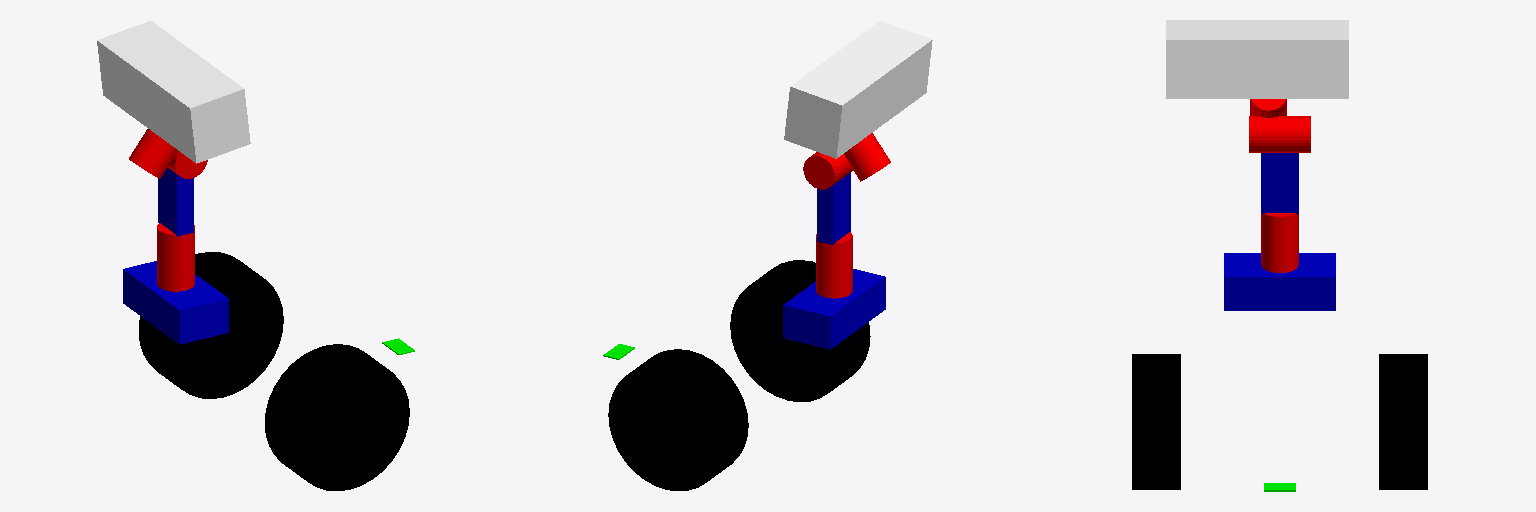
URDF robot description (realsense_explorer):
<?xml version="1.0" encoding="utf-8"?>
<!-- =================================================================================== -->
<!-- |    This document was autogenerated by xacro from realsense_explorer.urdf.xacro  | -->
<!-- |    EDITING THIS FILE BY HAND IS NOT RECOMMENDED                                 | -->
<!-- =================================================================================== -->
<robot name="realsense_explorer">
  <material name="aluminum">
    <color rgba="0.5 0.5 0.5 1"/>
  </material>
  <material name="plastic">
    <color rgba="0.1 0.1 0.1 1"/>
  </material>
  <link name="base_link"/>
  <!-- camera body, with origin at bottom screw mount -->
  <joint name="camera_joint" type="fixed">
    <origin rpy="0 0 0" xyz="0 0 0"/>
    <parent link="base_link"/>
    <child link="camera_bottom_screw_frame"/>
  </joint>
  <link name="camera_bottom_screw_frame"/>
  <joint name="camera_link_joint" type="fixed">
    <origin rpy="0 0 0" xyz="0.0106 0.0175 0.0125"/>
    <parent link="camera_bottom_screw_frame"/>
    <child link="camera_link"/>
  </joint>
  <link name="camera_link">
    <visual>
      <!-- the mesh origin is at front plate in between the two infrared camera axes -->
      <origin rpy="1.57079632679 0 1.57079632679" xyz="0.0043 -0.0175 0"/>
      <geometry>
        <mesh filename="package://realsense2_description/meshes/d435.dae"/>
      </geometry>
    </visual>
    <collision>
      <origin rpy="0 0 0" xyz="0 -0.0175 0"/>
      <geometry>
        <box size="0.02505 0.09 0.025"/>
      </geometry>
    </collision>
    <inertial>
      <!-- The following are not reliable values, and should not be used for modeling -->
      <mass value="0.072"/>
      <origin xyz="0 0 0"/>
      <inertia ixx="0.003881243" ixy="0.0" ixz="0.0" iyy="0.000498940" iyz="0.0" izz="0.003879257"/>
    </inertial>
  </link>
  <!-- camera depth joints and links -->
  <joint name="camera_depth_joint" type="fixed">
    <origin rpy="0 0 0" xyz="0 0 0"/>
    <parent link="camera_link"/>
    <child link="camera_depth_frame"/>
  </joint>
  <link name="camera_depth_frame"/>
  <joint name="camera_depth_optical_joint" type="fixed">
    <origin rpy="-1.57079632679 0 -1.57079632679" xyz="0 0 0"/>
    <parent link="camera_depth_frame"/>
    <child link="camera_depth_optical_frame"/>
  </joint>
  <link name="camera_depth_optical_frame"/>
  <!-- camera left IR joints and links -->
  <joint name="camera_infra1_joint" type="fixed">
    <origin rpy="0 0 0" xyz="0 0.0 0"/>
    <parent link="camera_link"/>
    <child link="camera_infra1_frame"/>
  </joint>
  <link name="camera_infra1_frame"/>
  <joint name="camera_infra1_optical_joint" type="fixed">
    <origin rpy="-1.57079632679 0 -1.57079632679" xyz="0 0 0"/>
    <parent link="camera_infra1_frame"/>
    <child link="camera_infra1_optical_frame"/>
  </joint>
  <link name="camera_infra1_optical_frame"/>
  <!-- camera right IR joints and links -->
  <joint name="camera_infra2_joint" type="fixed">
    <origin rpy="0 0 0" xyz="0 -0.05 0"/>
    <parent link="camera_link"/>
    <child link="camera_infra2_frame"/>
  </joint>
  <link name="camera_infra2_frame"/>
  <joint name="camera_infra2_optical_joint" type="fixed">
    <origin rpy="-1.57079632679 0 -1.57079632679" xyz="0 0 0"/>
    <parent link="camera_infra2_frame"/>
    <child link="camera_infra2_optical_frame"/>
  </joint>
  <link name="camera_infra2_optical_frame"/>
  <!-- camera color joints and links -->
  <joint name="camera_color_joint" type="fixed">
    <origin rpy="0 0 0" xyz="0 0.015 0"/>
    <parent link="camera_link"/>
    <child link="camera_color_frame"/>
  </joint>
  <link name="camera_color_frame"/>
  <joint name="camera_color_optical_joint" type="fixed">
    <origin rpy="-1.57079632679 0 -1.57079632679" xyz="0 0 0"/>
    <parent link="camera_color_frame"/>
    <child link="camera_color_optical_frame"/>
  </joint>
  <link name="camera_color_optical_frame"/>
  <material name="blue">
    <color rgba="0 0 0.8 1"/>
  </material>
  <material name="red">
    <color rgba="1 0 0 1"/>
  </material>
  <material name="white">
    <color rgba="1 1 1 1"/>
  </material>
  <link name="world">
    <visual>
      <geometry>
        <box size="0.045 0.09 0.03"/>
      </geometry>
      <origin rpy="0 0 0" xyz="0 0 0"/>
      <material name="blue"/>
    </visual>
  </link>
  <link name="servo_bottom">
    <visual>
      <geometry>
        <cylinder length="0.05" radius="0.015"/>
      </geometry>
      <origin rpy="0 0 0" xyz="0 0 0"/>
      <material name="red"/>
    </visual>
  </link>
  <link name="U_Link">
    <visual>
      <geometry>
        <box size="0.015 0.03 0.064"/>
      </geometry>
      <origin rpy="0 0 0" xyz="0 0 0"/>
      <material name="blue"/>
    </visual>
  </link>
  <link name="servo_mid">
    <visual>
      <geometry>
        <cylinder length="0.05" radius="0.015"/>
      </geometry>
      <origin rpy="1.57 0 0" xyz="0 0 0"/>
      <material name="red"/>
    </visual>
  </link>
  <link name="servo_up">
    <visual>
      <geometry>
        <cylinder length="0.05" radius="0.015"/>
      </geometry>
      <origin rpy="0 0 0" xyz="0 0 0"/>
      <material name="red"/>
    </visual>
  </link>
  <link name="up_mount">
    <visual>
      <geometry>
        <box size="0.05 0.148 0.05"/>
      </geometry>
      <origin rpy="0 0.785 0" xyz="0 0 0"/>
      <material name="white"/>
    </visual>
  </link>
  <joint name="base_to_Servo_B" type="fixed">
    <parent link="world"/>
    <child link="servo_bottom"/>
    <origin xyz="0 0 0.04"/>
  </joint>
  <joint name="Joint_1" type="revolute">
    <parent link="servo_bottom"/>
    <child link="U_Link"/>
    <axis xyz="0 0 1"/>
    <limit effort="1000.0" lower="-1.57" upper="1.57" velocity="0.5"/>
    <origin xyz="0 0 0.056"/>
  </joint>
  <joint name="Joint_2" type="revolute">
    <parent link="U_Link"/>
    <child link="servo_mid"/>
    <axis xyz="0 1 0"/>
    <limit effort="1000.0" lower="-1.57" upper="1.57" velocity="0.5"/>
    <origin rpy="0 0.67 0" xyz="0 0 0.036"/>
  </joint>
  <joint name="servo_mid_to_servo_up" type="fixed">
    <parent link="servo_mid"/>
    <child link="servo_up"/>
    <origin xyz="-0.0237 -0.009 0"/>
  </joint>
  <joint name="Joint_3" type="revolute">
    <parent link="servo_up"/>
    <child link="up_mount"/>
    <axis xyz="0 0 1"/>
    <limit effort="1000.0" lower="-1.57" upper="1.57" velocity="0.5"/>
    <origin xyz="-0.0237 -0.009 0.04"/>
  </joint>
  <joint name="mount_to_camera" type="fixed">
    <parent link="up_mount"/>
    <child link="base_link"/>
    <origin rpy="0 -0.785 0" xyz="0.03 0 0.02"/>
  </joint>
  <material name="invisible">
    <color rgba="0 0 0 0"/>
  </material>
  <material name="green">
    <color rgba="0 1 0 1"/>
  </material>
  <link name="base_footprint"/>
  <link name="robot_base">
    <visual>
      <origin rpy="1.57 0 3.14" xyz="0.15 -0.117 0"/>
      <geometry>
        <mesh filename="package://realsense_explorer_description/meshes/robot_chassis.STL" scale="0.001 0.001 0.001"/>
      </geometry>
    </visual>
    <collision>
      <origin rpy="1.57 0 3.14" xyz="0.15 -0.117 0"/>
      <geometry>
        <mesh filename="package://realsense_explorer_description/meshes/robot_chassis.STL" scale="0.001 0.001 0.001"/>
      </geometry>
    </collision>
  </link>
  <joint name="base_joint" type="fixed">
    <origin rpy="0 0 0" xyz="0 0 0"/>
    <parent link="base_footprint"/>
    <child link="robot_base"/>
  </joint>
  <joint name="chasis_to_rbot" type="fixed">
    <parent link="robot_base"/>
    <child link="world"/>
    <origin rpy="0 0 0" xyz="-0.09 0 0.13787"/>
  </joint>
  <link name="link_right_wheel">
    <collision name="link_right_wheel_visual">
      <origin rpy="0 1.5707 1.57" xyz="0 0 0"/>
      <geometry>
        <cylinder length="0.04" radius="0.055"/>
      </geometry>
    </collision>
    <visual name="link_right_wheel_visual">
      <origin rpy="0 1.5707 1.57" xyz="0 0 0"/>
      <geometry>
        <cylinder length="0.04" radius="0.055"/>
      </geometry>
      <material name="invisible"/>
    </visual>
  </link>
  <joint name="joint_right_wheel" type="continuous">
    <origin rpy="0 0 0" xyz="0 -0.1 0.055"/>
    <child link="link_right_wheel"/>
    <parent link="robot_base"/>
    <axis rpy="0 0 0" xyz="0 1 0"/>
    <limit effort="10000" velocity="1000"/>
    <joint_properties damping="1.0" friction="1.0"/>
  </joint>
  <link name="link_left_wheel">
    <collision name="link_left_wheel_visual">
      <origin rpy="0 1.5707 1.57" xyz="0 0 0"/>
      <geometry>
        <cylinder length="0.04" radius="0.055"/>
      </geometry>
    </collision>
    <visual name="link_left_wheel_visual">
      <origin rpy="0 1.5707 1.57" xyz="0 0 0"/>
      <geometry>
        <cylinder length="0.04" radius="0.055"/>
      </geometry>
      <material name="invisible"/>
    </visual>
  </link>
  <joint name="joint_left_wheel" type="continuous">
    <origin rpy="0 0 0" xyz="0 0.1 0.055"/>
    <child link="link_left_wheel"/>
    <parent link="robot_base"/>
    <axis rpy="0 0 0" xyz="0 1 0"/>
    <limit effort="10000" velocity="1000"/>
    <joint_properties damping="1.0" friction="1.0"/>
  </joint>
  <link name="imu_link">
    <visual>
      <geometry>
        <box size="0.015 0.026 0.001"/>
      </geometry>
      <material name="green"/>
    </visual>
  </link>
  <joint name="imu_joint" type="fixed">
    <origin rpy="0 0 0" xyz="0.114 0 0.05"/>
    <child link="imu_link"/>
    <parent link="robot_base"/>
  </joint>
  <transmission name="right_wheel_transmission">
    <type>transmission_interface/SimpleTransmission</type>
    <joint name="joint_right_wheel">
      <hardwareInterface>
      hardware_interface/VelocityJointInterface
    </hardwareInterface>
    </joint>
    <actuator name="right_wheel_actuator">
      <mechanicalReduction>1</mechanicalReduction>
      <hardwareInterface>
      VelocityJointInterface
    </hardwareInterface>
    </actuator>
  </transmission>
  <transmission name="left_wheel_transmission">
    <type>transmission_interface/SimpleTransmission</type>
    <joint name="joint_left_wheel">
      <hardwareInterface>
      hardware_interface/VelocityJointInterface
    </hardwareInterface>
    </joint>
    <actuator name="left_wheel_actuator">
      <mechanicalReduction>1</mechanicalReduction>
      <hardwareInterface>
      VelocityJointInterface
    </hardwareInterface>
    </actuator>
  </transmission>
</robot>

--- What the picture shows (computed from the rendered views, not written in the file) ---
The picture shows the robot from 3 angles, left to right: view 1: azimuth 30°, elevation 25°; view 2: azimuth 150°, elevation 25°; view 3: azimuth 270°, elevation 25°; orthographic projection.
Model realsense_explorer with 22 links and 21 joints (3 revolute, 2 continuous, 16 fixed), rooted at base_footprint, posed all joints at 0.
Links seen in each view (by area): view 1: link_right_wheel, up_mount, link_left_wheel, world, servo_bottom, U_Link, servo_up, servo_mid; view 2: link_left_wheel, up_mount, link_right_wheel, world, servo_bottom, U_Link, servo_mid, servo_up; view 3: up_mount, link_right_wheel, link_left_wheel, world, U_Link, servo_mid, servo_bottom, servo_up.
Link boxes in pixels (left/top/right/bottom): link_right_wheel: left=265, top=344, right=409, bottom=490; up_mount: left=97, top=21, right=250, bottom=163; link_left_wheel: left=139, top=252, right=283, bottom=398; world: left=123, top=261, right=228, bottom=344; servo_bottom: left=157, top=223, right=194, bottom=291; U_Link: left=158, top=168, right=193, bottom=236; servo_up: left=129, top=129, right=177, bottom=178; servo_mid: left=168, top=151, right=207, bottom=178; link_left_wheel: left=608, top=349, right=748, bottom=490; up_mount: left=784, top=21, right=932, bottom=158; link_right_wheel: left=730, top=260, right=870, bottom=401; world: left=783, top=269, right=885, bottom=349; servo_bottom: left=816, top=232, right=852, bottom=298; U_Link: left=817, top=172, right=850, bottom=244; servo_mid: left=803, top=152, right=852, bottom=189; servo_up: left=844, top=133, right=890, bottom=181; up_mount: left=1166, top=20, right=1348, bottom=98; link_right_wheel: left=1132, top=354, right=1180, bottom=489; link_left_wheel: left=1379, top=354, right=1427, bottom=489; world: left=1224, top=253, right=1335, bottom=310; U_Link: left=1261, top=153, right=1298, bottom=213; servo_mid: left=1249, top=116, right=1310, bottom=152; servo_bottom: left=1261, top=213, right=1298, bottom=272; servo_up: left=1250, top=99, right=1286, bottom=117.
Bounding box of the posed robot: 0.2574 × 0.2401 × 0.3584 m (x, y, z).
0 mesh visuals loaded from 2 distinct referenced files (none loaded); not drawn: 2 (reference not matched to a file when rendering).